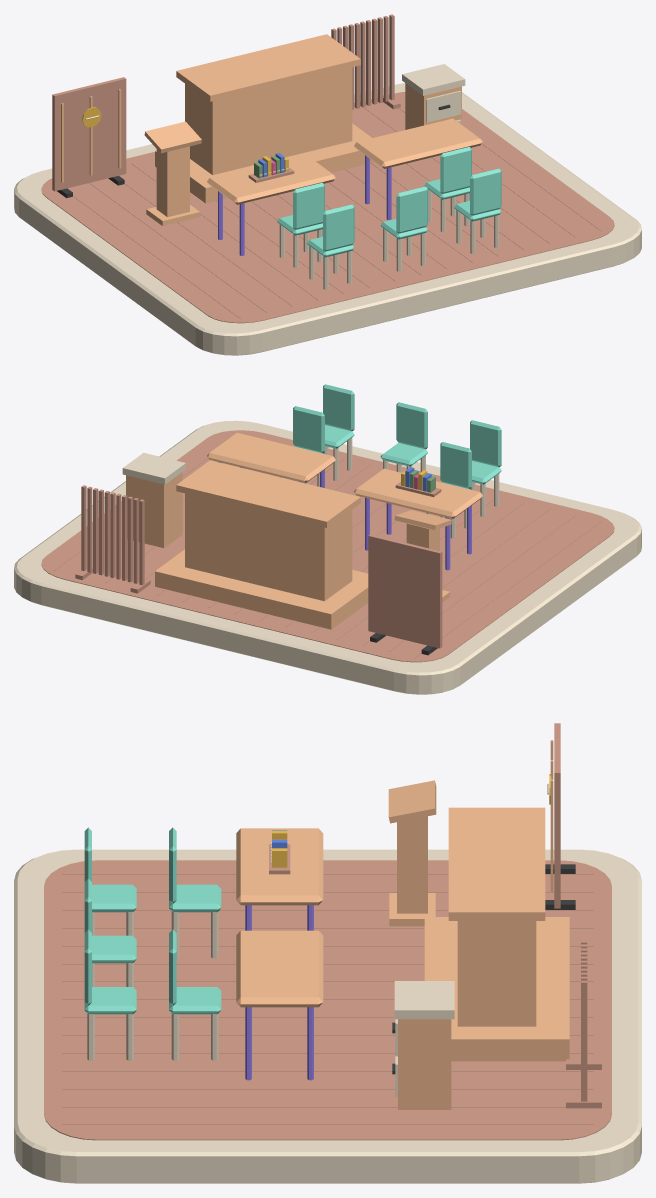
The model's file is room.fbx.
3 renders of one model, top to bottom at view 1: azimuth 30°, elevation 25°; view 2: azimuth 150°, elevation 25°; view 3: azimuth 270°, elevation 25°, orthographic. The views are drawn at different scales.
Visible parts, largest first — view 1: COM-02 Floor Surface, COM-01 Rounded Base Direct, Bench, Panel, Top, Rounded table top.001, Rounded table top, Platform, Body, Top.001, Backrest.002, Backrest.003 (+13 smaller); view 2: COM-02 Floor Surface, COM-01 Rounded Base Direct, Bench, Panel, Platform, Top, Rounded table top.001, Body.001, Rounded table top, Top.001, Backrest, Backrest.001 (+19 smaller); view 3: COM-02 Floor Surface, COM-01 Rounded Base Direct, Top, Platform, Bench, Rounded table top.001, Rounded table top, Body.001, Body, Top.001, Reading top, Seat (+11 smaller).
Boxes of the visible parts, box(x1,y1,x2,y2) form: COM-02 Floor Surface: box(41, 92, 614, 323); COM-01 Rounded Base Direct: box(14, 83, 641, 355); Bench: box(185, 67, 352, 174); Panel: box(52, 77, 126, 191); Top: box(176, 34, 360, 101); Rounded table top.001: box(354, 118, 482, 168); Rounded table top: box(207, 154, 335, 204); Platform: box(155, 123, 374, 203); Body: box(156, 146, 189, 217); Top.001: box(402, 64, 465, 95); Backrest.002: box(323, 204, 354, 251); Backrest.003: box(396, 186, 427, 233); COM-02 Floor Surface: box(41, 430, 614, 662); COM-01 Rounded Base Direct: box(14, 420, 641, 694); Bench: box(185, 493, 352, 601); Panel: box(368, 534, 442, 648); Platform: box(155, 549, 368, 629); Top: box(176, 460, 360, 527); Rounded table top.001: box(207, 432, 335, 483); Body.001: box(126, 472, 182, 548); Rounded table top: box(354, 468, 482, 518); Top.001: box(122, 452, 185, 484); Backrest: box(440, 442, 471, 488); Backrest.001: box(293, 406, 324, 453); COM-02 Floor Surface: box(44, 860, 611, 1140); COM-01 Rounded Base Direct: box(14, 849, 641, 1183); Top: box(448, 807, 545, 920); Platform: box(424, 917, 569, 1061); Bench: box(457, 921, 536, 1026); Rounded table top.001: box(236, 930, 323, 1007); Rounded table top: box(236, 828, 323, 905); Body.001: box(398, 1019, 451, 1109); Body: box(397, 816, 427, 913); Top.001: box(394, 981, 454, 1019); Reading top: box(388, 780, 436, 823); Seat: box(169, 884, 221, 912).
Size of the model in its own units: 600 by 159 by 520.
